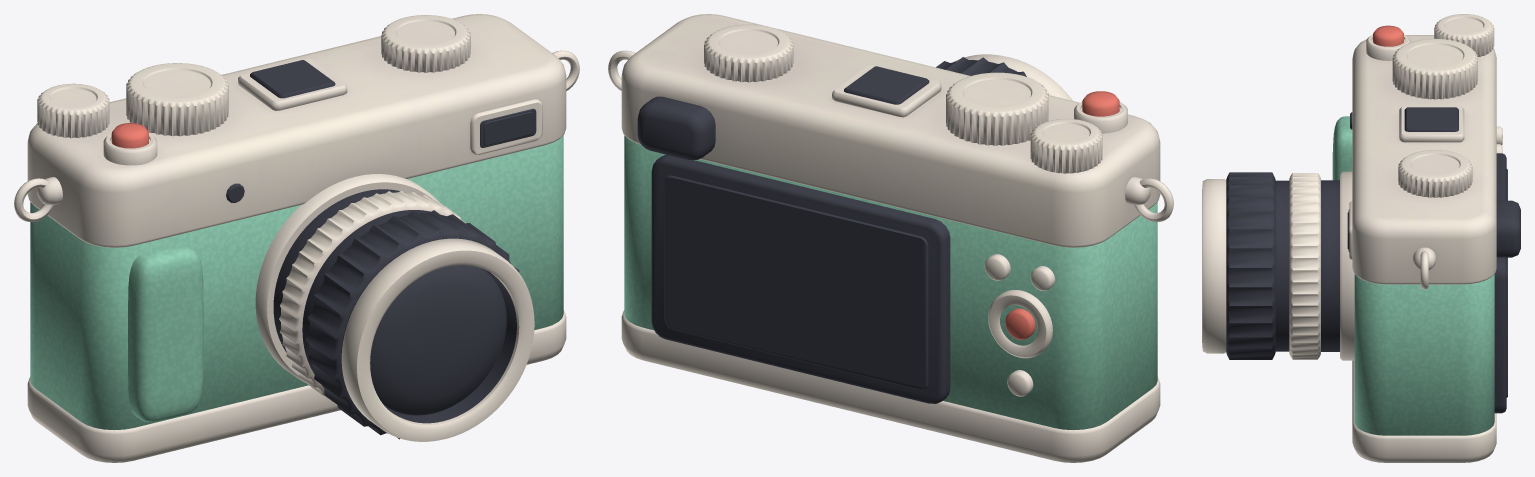
The model's file is camera.glb.
3 renders of one model, left to right at view 1: azimuth 30°, elevation 25°; view 2: azimuth 150°, elevation 25°; view 3: azimuth 270°, elevation 25°, orthographic. The views are drawn at different scales.
Visible parts, largest first — view 1: camera_body, camera_lens_glass, camera_viewfinder_glass; view 2: camera_body, camera_monitor_glass; view 3: camera_body, camera_monitor_glass.
Boxes of the visible parts, <box> form: camera_body: <box>14,14,579,462</box>; camera_lens_glass: <box>370,265,506,415</box>; camera_viewfinder_glass: <box>483,111,533,145</box>; camera_body: <box>608,14,1173,462</box>; camera_monitor_glass: <box>664,175,928,389</box>; camera_body: <box>1202,14,1520,462</box>; camera_monitor_glass: <box>1506,169,1507,397</box>.
Size of the model in its own units: 0.15 by 0.0822 by 0.0884.
2 materials, 1 textured.
